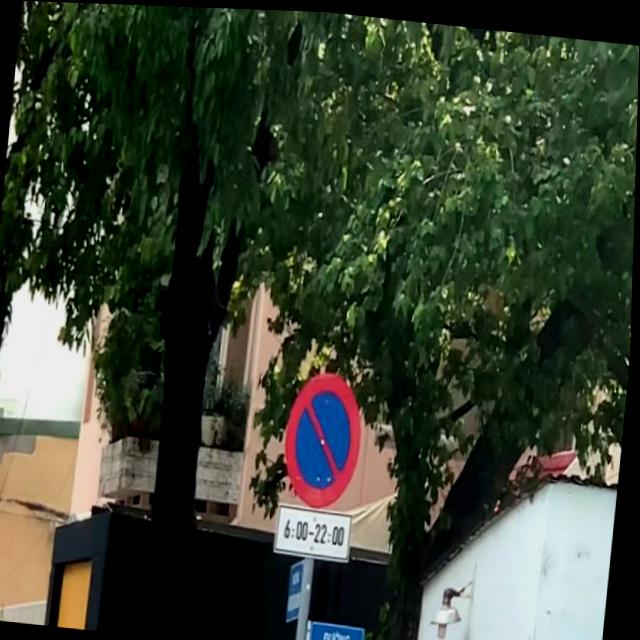Cam do xe: (281, 366, 375, 510)
